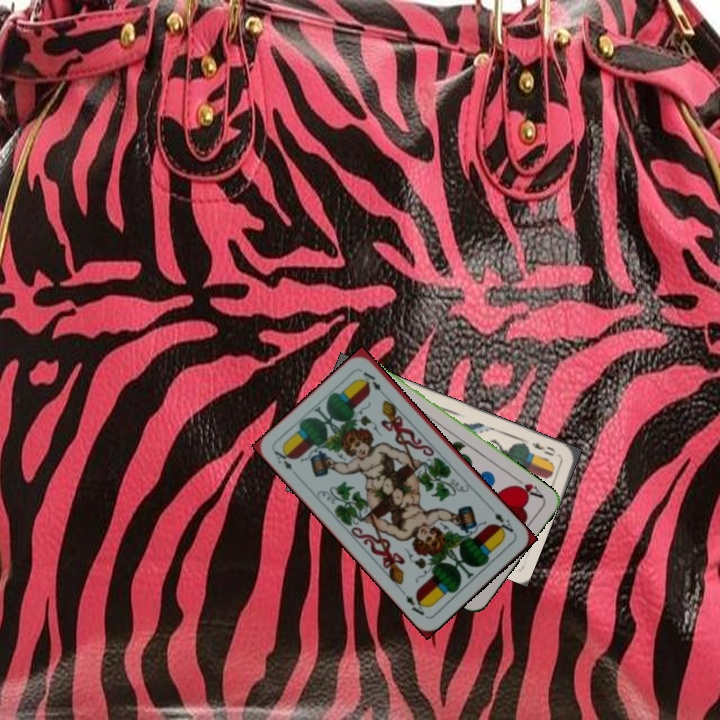EA: (270, 445, 301, 480), (486, 504, 518, 537)
EO: (528, 438, 558, 459)
HA: (509, 473, 546, 502)
